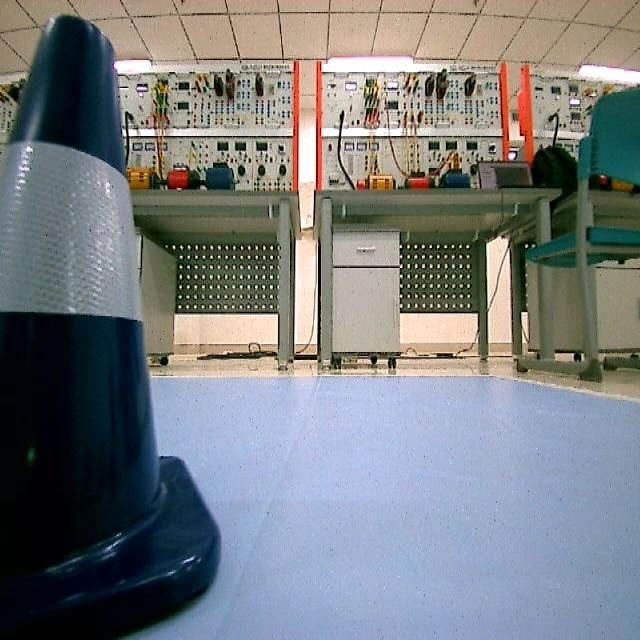obstacle: (0, 0, 225, 638)
